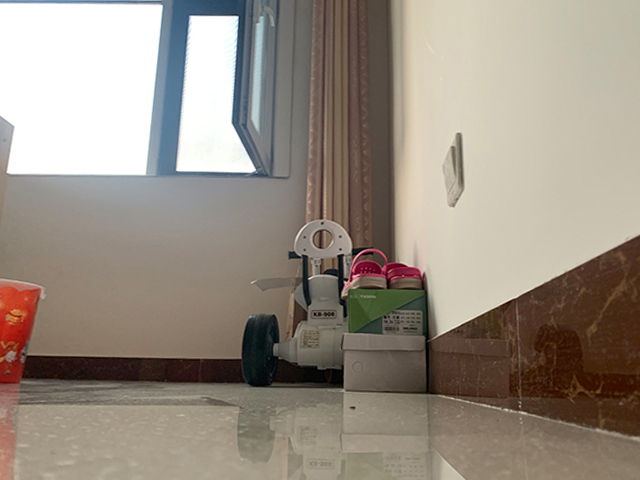curtain: (299, 1, 371, 266)
trashcan: (1, 277, 43, 386)
